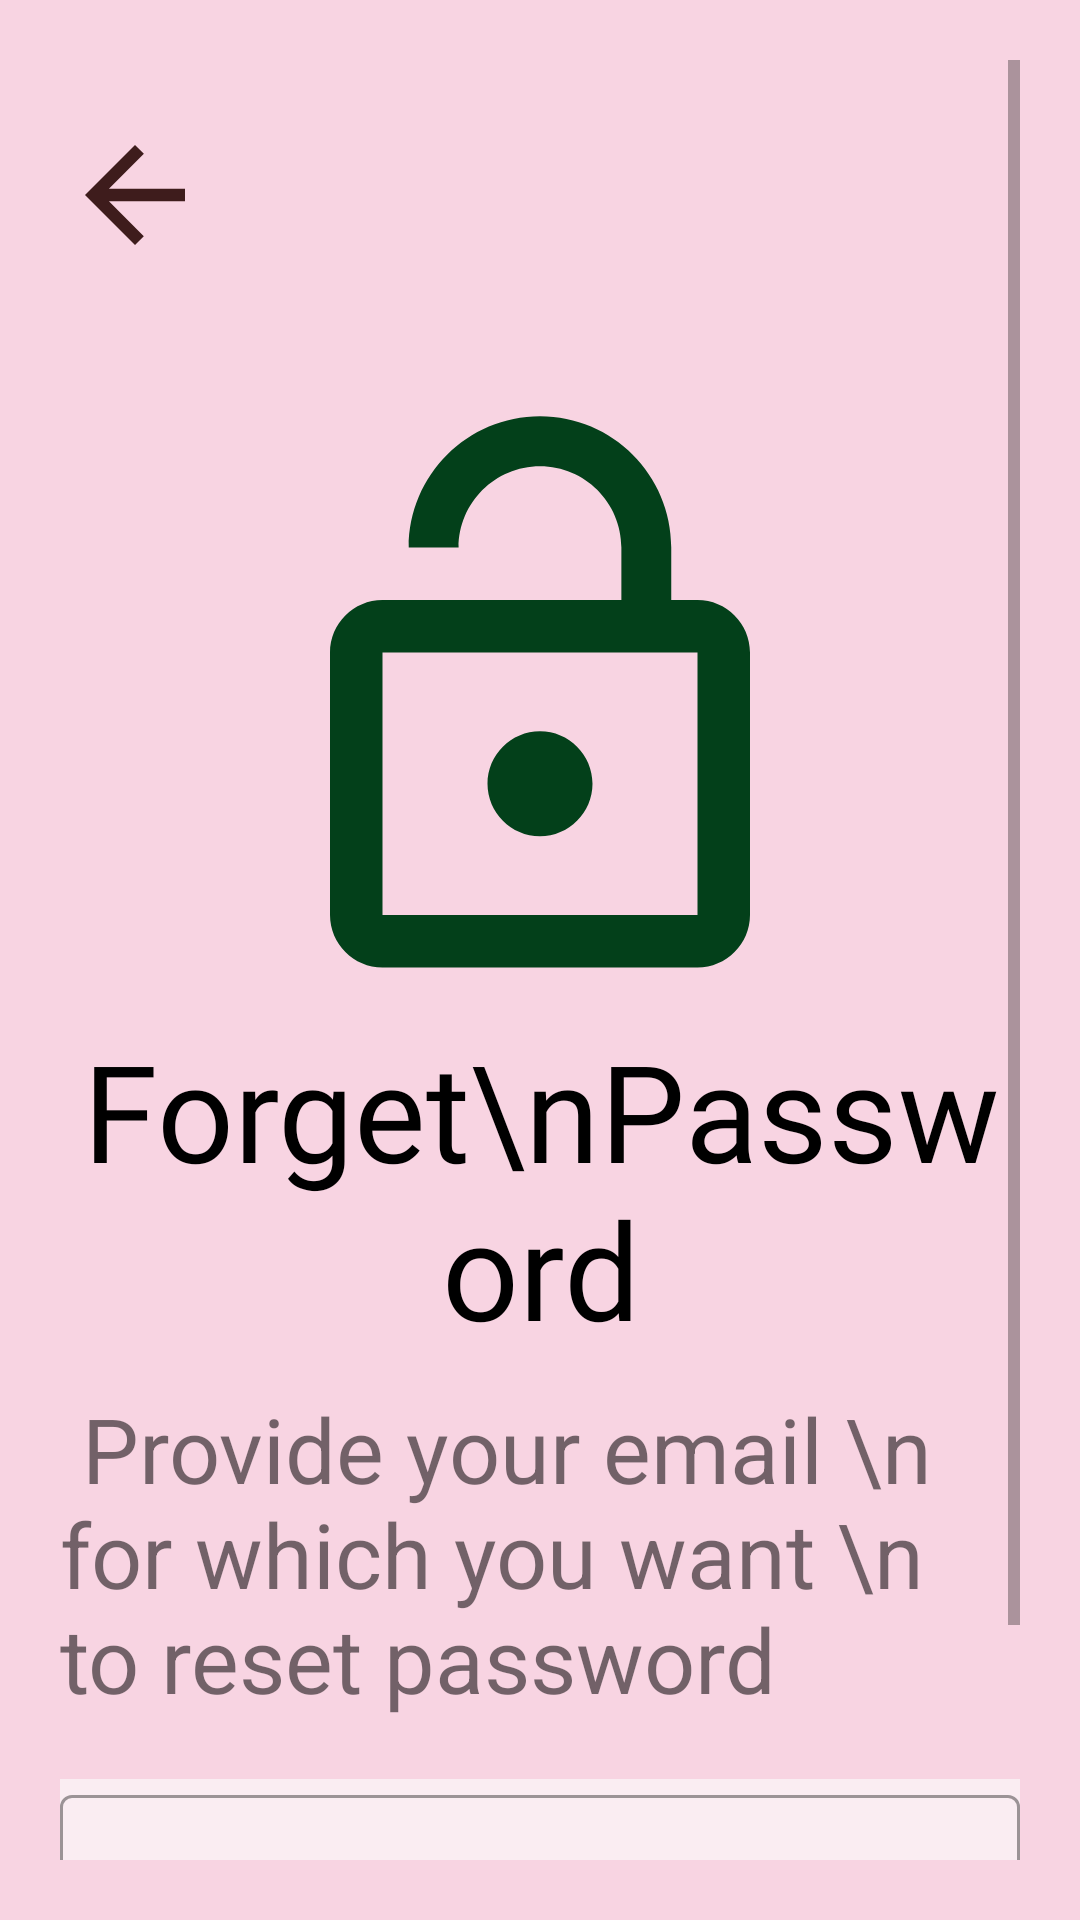

Screen size 1080px×1920px. Icon name, then its center in pixels as (x,y):
arrow back: (135,195)
